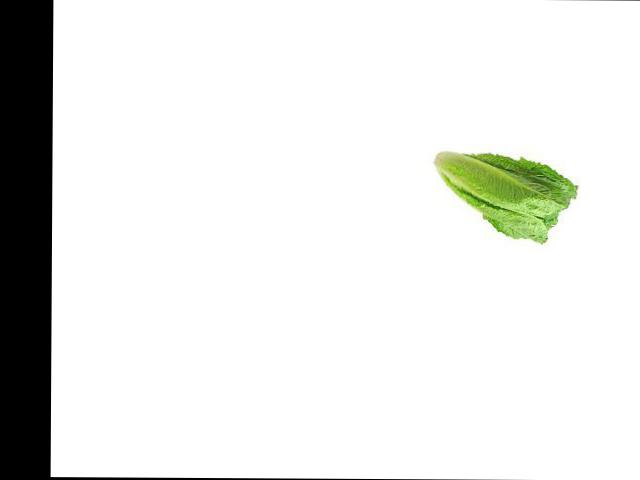lettuce: (446, 121, 601, 252)
